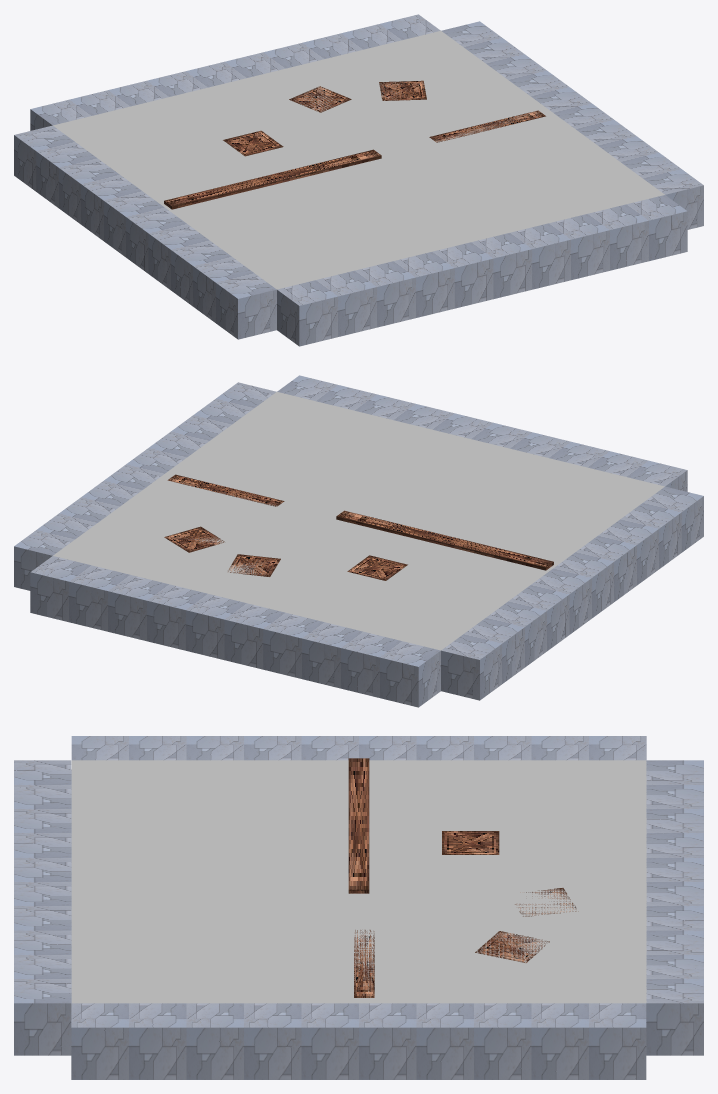
The picture shows the model from 3 angles, top to bottom: view 1: azimuth 30°, elevation 25°; view 2: azimuth 150°, elevation 25°; view 3: azimuth 270°, elevation 25°; orthographic projection. The views are drawn at different scales.
Visible parts, largest first — view 1: Ceiling, Wall.002, Wall.001, Wall.003, Wall.000, Box.000, Box.001, Box.004, Box.003, Box.005; view 2: Ceiling, Wall.000, Wall.001, Wall.003, Wall.002, Box.000, Box.001, Box.003, Box.005, Box.004; view 3: Ceiling, Wall.003, Wall.000, Wall.002, Wall.001, Box.000, Box.003, Box.005, Box.001.
Boxes of the visible parts, x1=… form: Ceiling: x1=53, y1=31, x2=664, y2=289; Wall.002: x1=277, y1=195, x2=687, y2=346; Wall.001: x1=14, y1=125, x2=276, y2=339; Wall.003: x1=441, y1=21, x2=703, y2=229; Wall.000: x1=30, y1=14, x2=440, y2=130; Box.000: x1=164, y1=149, x2=381, y2=209; Box.001: x1=429, y1=110, x2=545, y2=142; Box.004: x1=289, y1=86, x2=351, y2=112; Box.003: x1=223, y1=130, x2=283, y2=156; Box.005: x1=379, y1=80, x2=426, y2=100; Ceiling: x1=53, y1=392, x2=664, y2=650; Wall.000: x1=30, y1=556, x2=440, y2=707; Wall.001: x1=441, y1=486, x2=703, y2=700; Wall.003: x1=14, y1=382, x2=276, y2=590; Wall.002: x1=277, y1=375, x2=687, y2=491; Box.000: x1=336, y1=510, x2=553, y2=570; Box.001: x1=167, y1=474, x2=284, y2=506; Box.003: x1=347, y1=555, x2=407, y2=580; Box.005: x1=164, y1=526, x2=224, y2=552; Box.004: x1=228, y1=554, x2=280, y2=576; Ceiling: x1=71, y1=760, x2=646, y2=1003; Wall.003: x1=71, y1=1003, x2=646, y2=1079; Wall.000: x1=646, y1=760, x2=703, y2=1055; Wall.002: x1=14, y1=760, x2=71, y2=1055; Wall.001: x1=71, y1=736, x2=646, y2=760; Box.000: x1=348, y1=758, x2=369, y2=893; Box.003: x1=442, y1=831, x2=499, y2=854; Box.005: x1=475, y1=931, x2=549, y2=962; Box.001: x1=354, y1=930, x2=374, y2=997.
Bounding box in the file's own units: 24 × 2.15 × 24.
